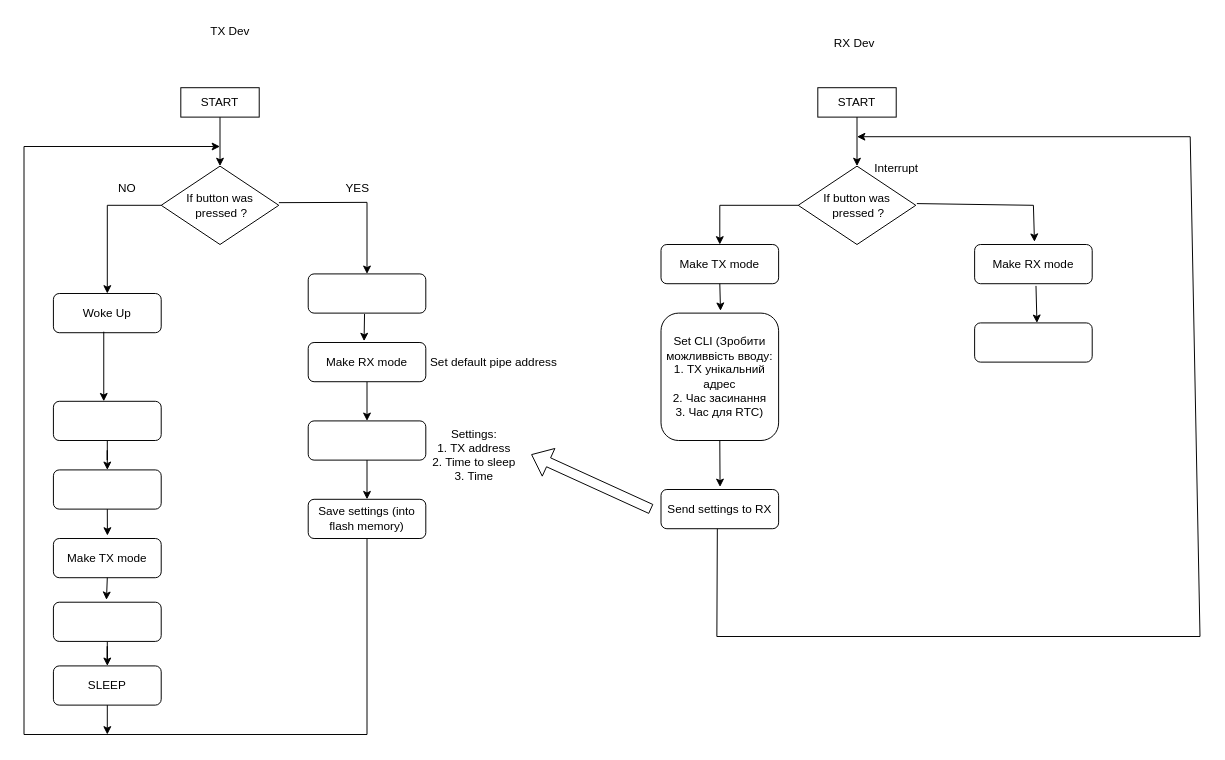
This 1225x760 diagram has some shape labels left out. The box of each missing label's shape, as (x1, y1, x2, y2) in pixels:
Make LED Blink: (307, 273, 426, 313)
Measuer TH: (52, 400, 161, 441)
Read Time: (52, 469, 161, 509)
Reseive data and send it ower UART: (974, 322, 1092, 362)
Transmeet data to RX: (52, 601, 161, 641)
Wait settings: (307, 420, 426, 460)
